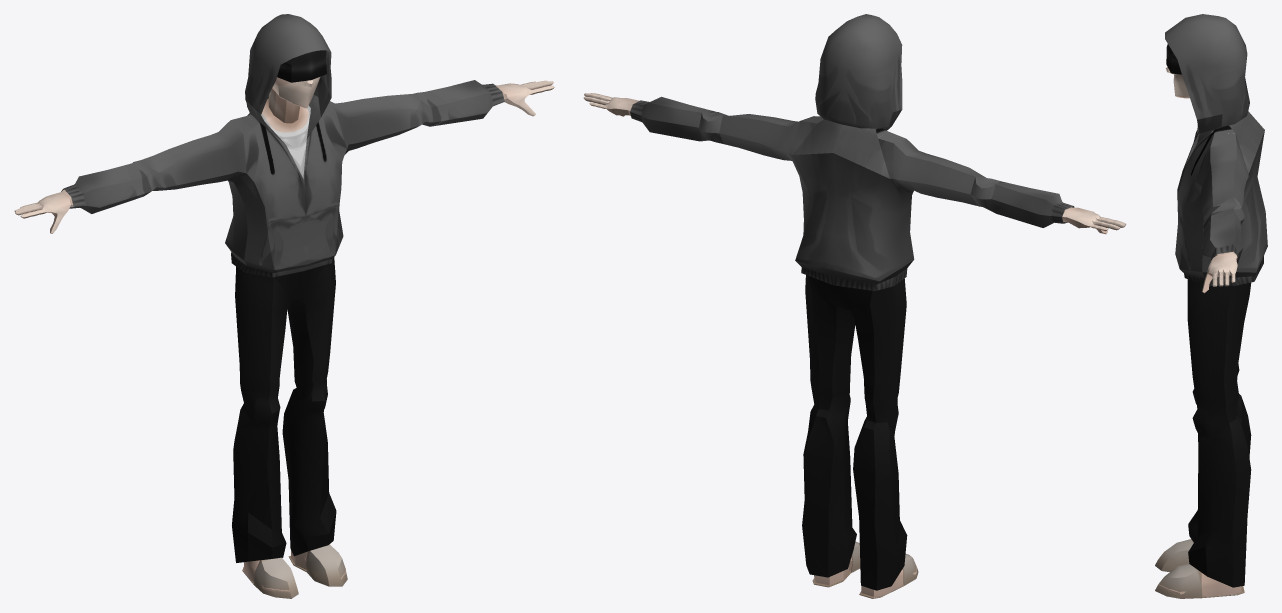
The model's file is customer2.fbx.
3 views of the same model, side by side, from view 1: azimuth 30°, elevation 25°; view 2: azimuth 150°, elevation 25°; view 3: azimuth 270°, elevation 25° (orthographic).
Parts seen in each view (by area): view 1: Box002; view 2: Box002; view 3: Box002.
Boxes of the visible parts, left/top/right/bottom form: Box002: left=14, top=14, right=554, bottom=598; Box002: left=583, top=14, right=1126, bottom=598; Box002: left=1155, top=14, right=1267, bottom=598.
Size of the model in its own units: 111 by 109 by 19.93.
